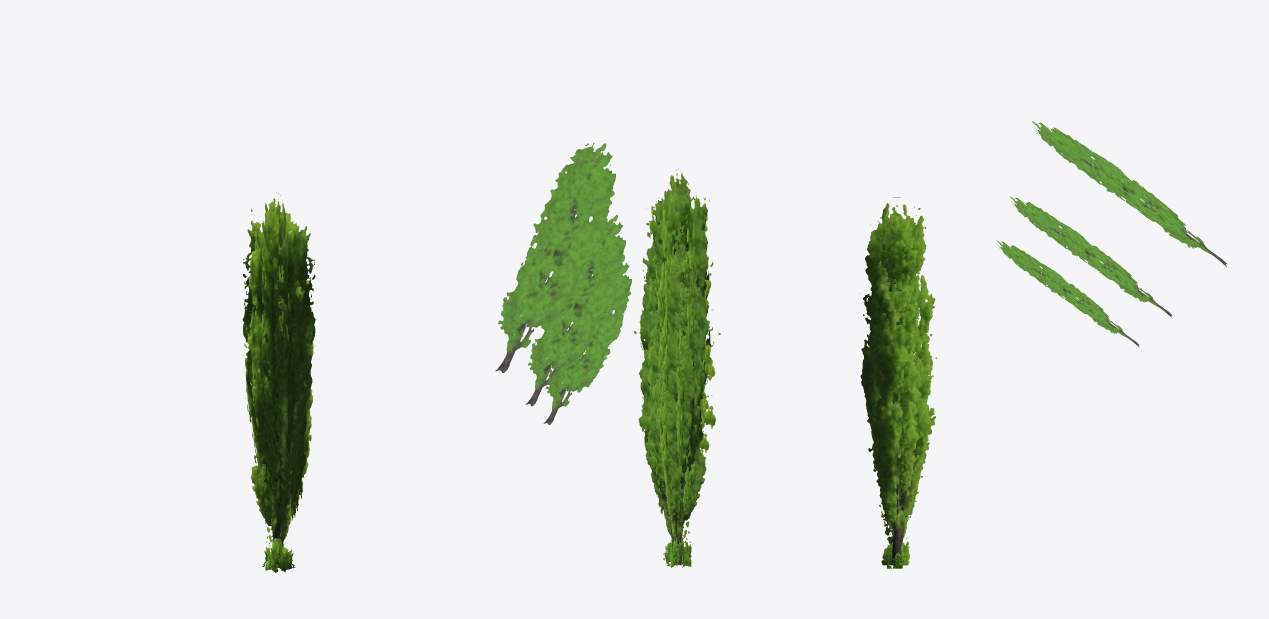
The model's file is tree-impo2D.glb.
The picture shows the model from 3 angles, left to right: view 1: azimuth 30°, elevation 25°; view 2: azimuth 150°, elevation 25°; view 3: azimuth 270°, elevation 25°; orthographic projection. The views are drawn at different scales.
Parts seen in each view (by area): view 1: size3.002, size3.008, size3.012, size2.018, size3.003, size1.027, size3.010, size3.011, size2.022, size1.030, size2.015; view 2: size3.shadow, size2.shadow.001, size3.007, size3.001, size1.shadow.002, size3.012, size1.025, size2.005, size2.017, size3.003, size1.027, size2.015 (+4 smaller); view 3: size3.013, size3.004, size3.shadow, size2.shadow.001, size1.shadow.002, size2.023, size2.016.
Part boxes in pixels (x1,y1,x2,y2): size3.002: [244, 198, 315, 563]; size3.008: [261, 226, 315, 477]; size3.012: [243, 209, 277, 503]; size2.018: [264, 286, 307, 493]; size3.003: [264, 195, 296, 545]; size1.027: [278, 311, 291, 546]; size3.010: [242, 220, 260, 397]; size3.011: [289, 223, 308, 498]; size2.022: [251, 280, 277, 518]; size1.030: [265, 327, 305, 501]; size2.015: [278, 258, 293, 544]; size3.shadow: [495, 143, 615, 372]; size2.shadow.001: [525, 215, 625, 406]; size3.007: [634, 197, 695, 496]; size3.001: [639, 173, 713, 563]; size1.shadow.002: [543, 258, 631, 424]; size3.012: [674, 195, 711, 500]; size1.025: [649, 281, 703, 564]; size2.005: [646, 241, 706, 565]; size2.017: [645, 260, 691, 508]; size3.003: [656, 169, 692, 521]; size1.027: [661, 297, 676, 540]; size2.015: [659, 247, 676, 536]; size3.013: [867, 234, 926, 511]; size3.004: [860, 197, 935, 564]; size3.shadow: [1032, 121, 1226, 267]; size2.shadow.001: [1010, 196, 1172, 317]; size1.shadow.002: [996, 240, 1139, 347]; size2.023: [872, 293, 921, 519]; size2.016: [867, 272, 929, 565].
Bounding box in the file's own units: 11.56 × 34.3 × 27.49.
1 material, 1 textured.
